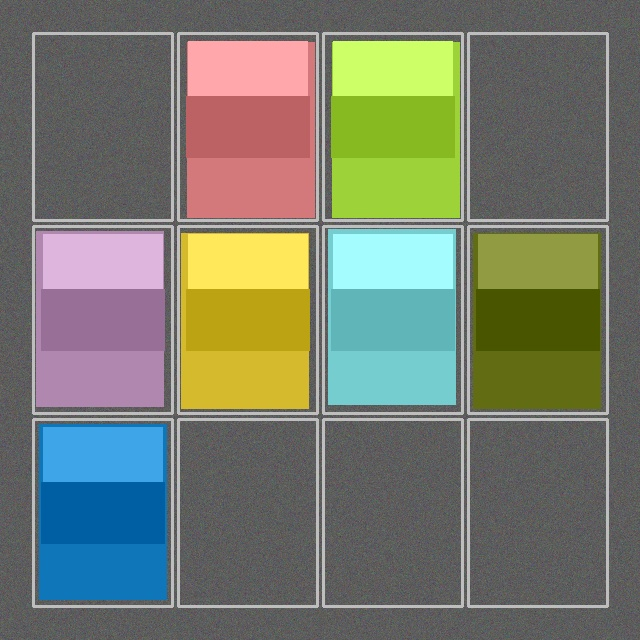space-empty: (35, 35, 170, 218), (470, 35, 605, 218), (180, 421, 315, 604), (325, 421, 460, 604), (470, 421, 605, 604)
space-occupied: (180, 35, 315, 218), (325, 35, 460, 218), (35, 228, 170, 411), (180, 228, 315, 411), (325, 228, 460, 411), (470, 228, 605, 411), (35, 421, 170, 604)
